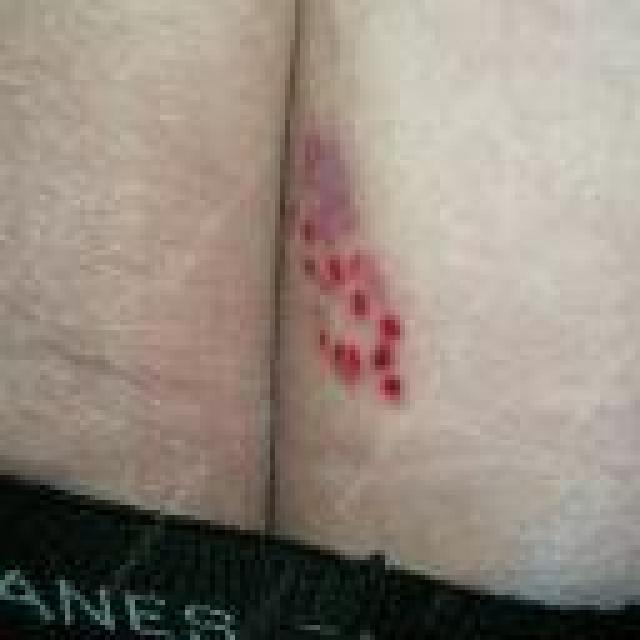Shingles: (276, 138, 411, 406)
